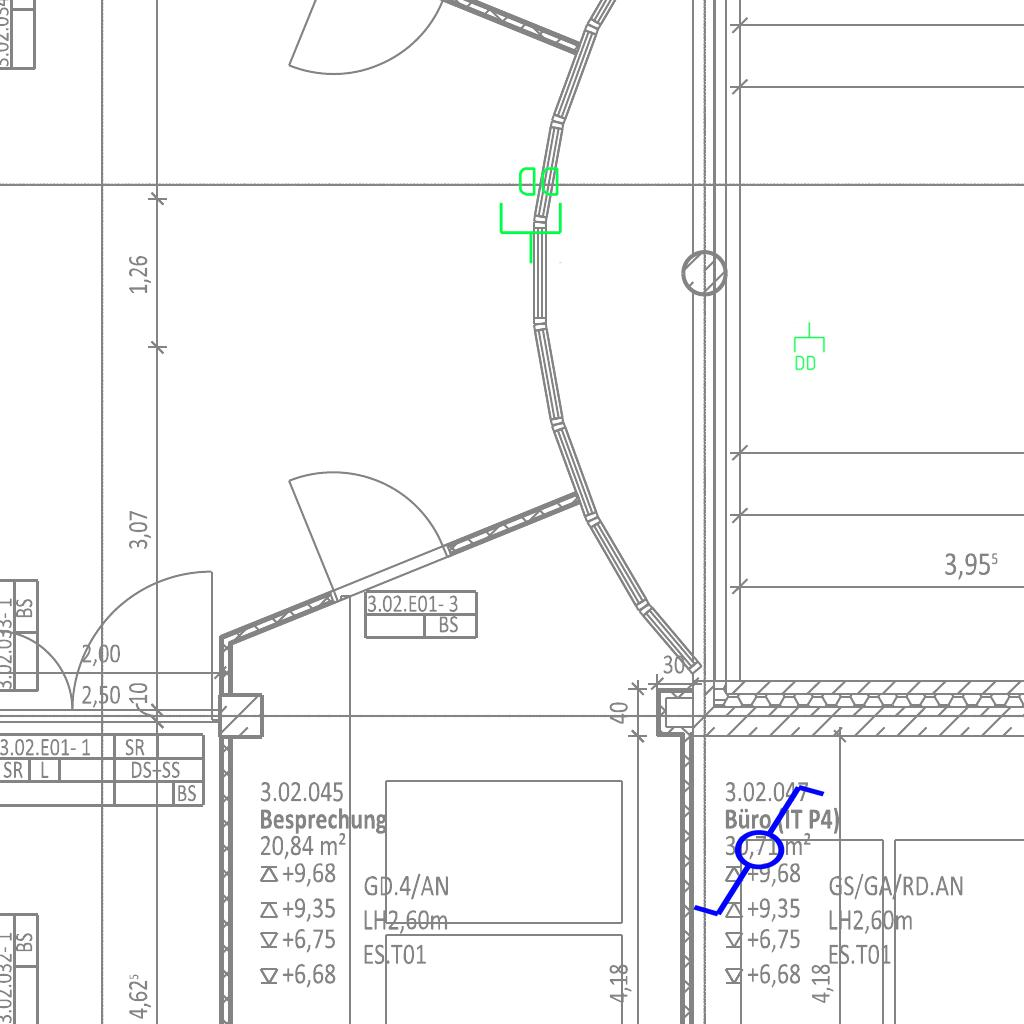Datenanschluss_zweifach: (497, 163, 566, 266), (792, 321, 826, 372)
Wechselschalter: (689, 780, 846, 924)
